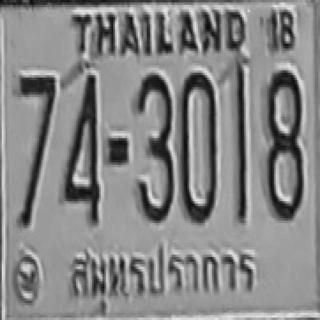N00: (179, 70, 217, 221)
N03: (134, 72, 173, 220)
N04: (61, 72, 100, 222)
N07: (18, 74, 55, 217), (18, 74, 55, 168)
N08: (263, 68, 302, 218)
P57: (67, 238, 260, 303)
